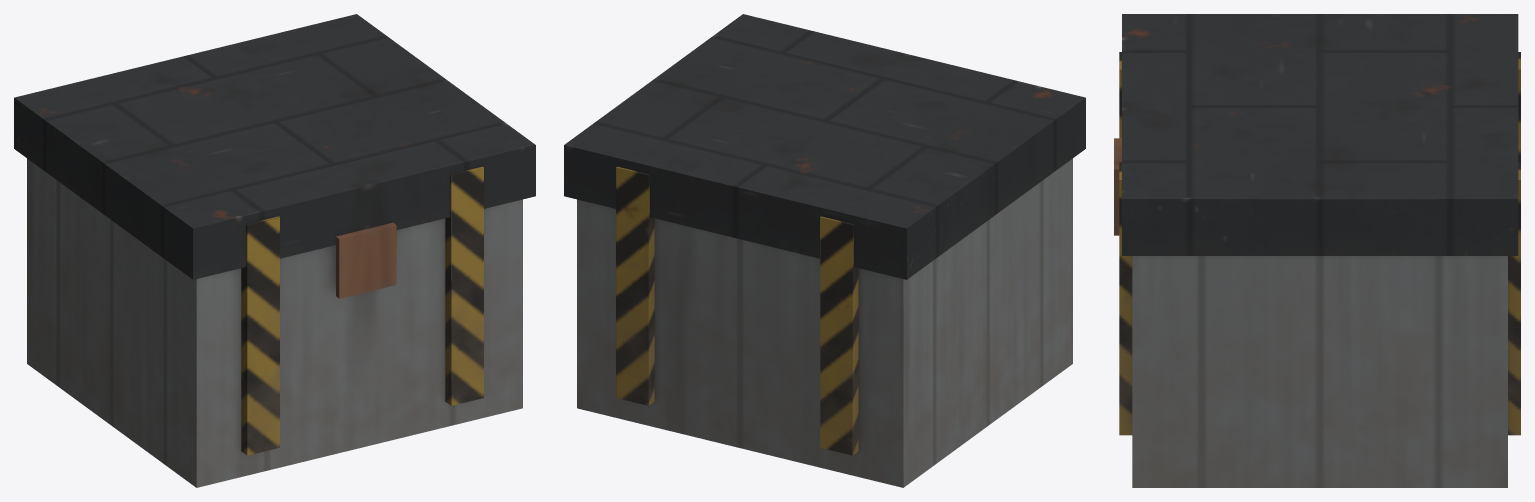
Rendered from bau.glb.
3 views of the same model, side by side, from view 1: azimuth 30°, elevation 25°; view 2: azimuth 150°, elevation 25°; view 3: azimuth 270°, elevation 25° (orthographic). The views are drawn at different scales.
Visible parts, largest first — view 1: bau; view 2: bau; view 3: bau.
Part boxes in pixels (bbox=[...]): bau: bbox=[14, 14, 535, 487]; bau: bbox=[564, 14, 1085, 487]; bau: bbox=[1114, 14, 1520, 487].
Size of the model in its own units: 0.84 by 0.62 by 0.78.
1 material, 1 textured.
